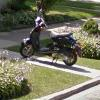Motorcycle: (14, 11, 88, 74)
